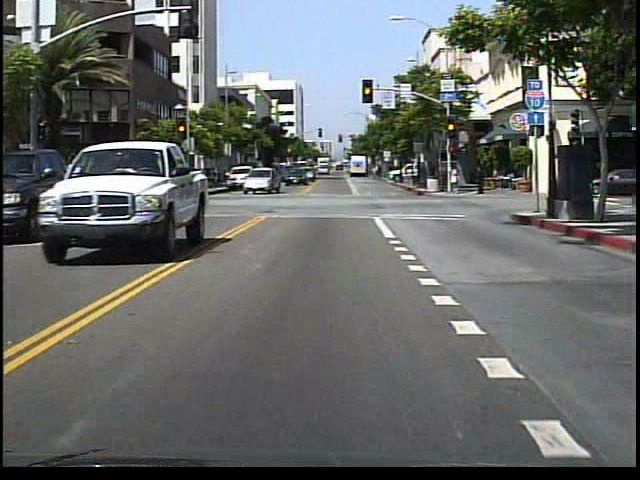person: (472, 164, 487, 198), (170, 167, 184, 197), (449, 163, 461, 197)
